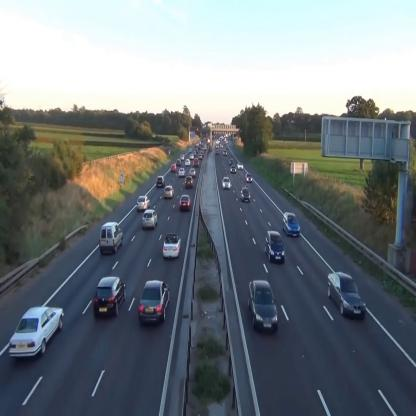car: (9, 306, 64, 358), (328, 271, 366, 322), (248, 280, 278, 333), (139, 280, 170, 324), (93, 276, 126, 317), (264, 230, 285, 263), (100, 222, 123, 252), (283, 211, 300, 237), (163, 234, 181, 258), (141, 210, 158, 229), (137, 196, 150, 211), (179, 195, 191, 211), (163, 185, 174, 199), (241, 188, 251, 202), (156, 176, 166, 188), (185, 176, 193, 188), (222, 177, 230, 189), (245, 173, 252, 183), (190, 168, 196, 178), (230, 164, 237, 172), (179, 167, 185, 176), (171, 164, 176, 172)
